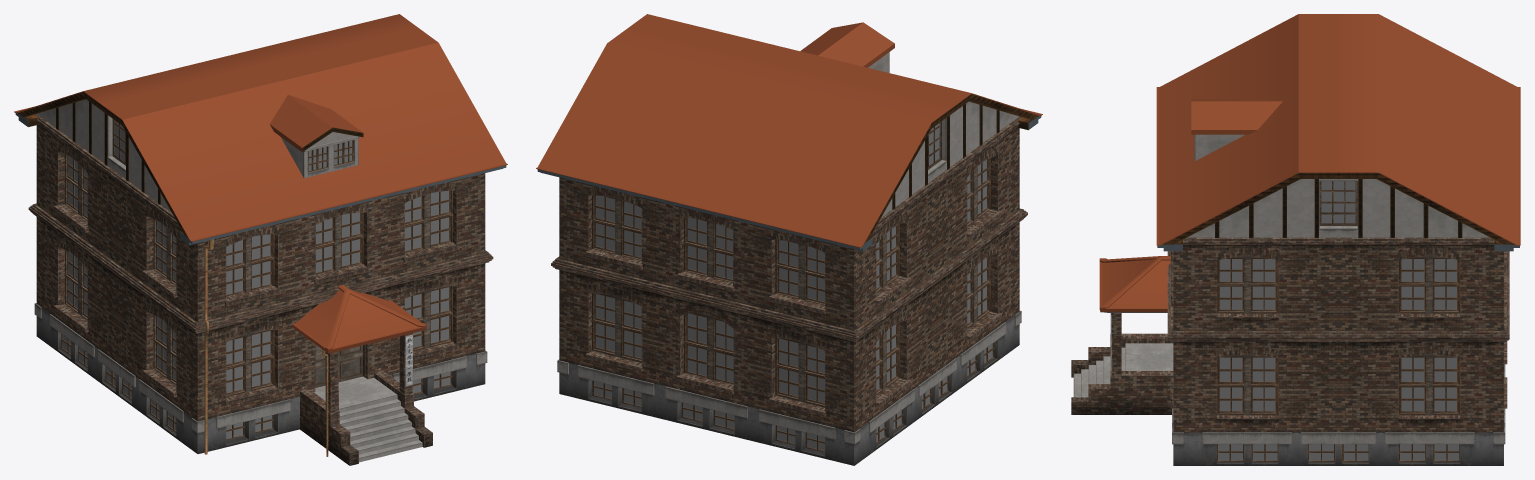
The picture shows the model from 3 angles, left to right: view 1: azimuth 30°, elevation 25°; view 2: azimuth 150°, elevation 25°; view 3: azimuth 270°, elevation 25°; orthographic projection. The views are drawn at different scales.
Parts seen in each view (by area): view 1: NeelSchoolWindowsRoof_Roof_NeelSchoolWindowsRoof_0, NeelSchoolWalls_Wall_NeelSchoolWalls_0; view 2: NeelSchoolWindowsRoof_Roof_NeelSchoolWindowsRoof_0, NeelSchoolWalls_Wall_NeelSchoolWalls_0; view 3: NeelSchoolWindowsRoof_Roof_NeelSchoolWindowsRoof_0, NeelSchoolWalls_Wall_NeelSchoolWalls_0.
Boxes of the visible parts, left/top/right/bottom form: NeelSchoolWindowsRoof_Roof_NeelSchoolWindowsRoof_0: left=14, top=14, right=507, bottom=456; NeelSchoolWalls_Wall_NeelSchoolWalls_0: left=28, top=99, right=493, bottom=465; NeelSchoolWindowsRoof_Roof_NeelSchoolWindowsRoof_0: left=536, top=14, right=1042, bottom=452; NeelSchoolWalls_Wall_NeelSchoolWalls_0: left=551, top=52, right=1027, bottom=465; NeelSchoolWindowsRoof_Roof_NeelSchoolWindowsRoof_0: left=1099, top=14, right=1520, bottom=461; NeelSchoolWalls_Wall_NeelSchoolWalls_0: left=1071, top=134, right=1509, bottom=465.
Size of the model in its own units: 11.54 by 10.42 by 13.86.
Materials: 2 (2 with a texture image).
